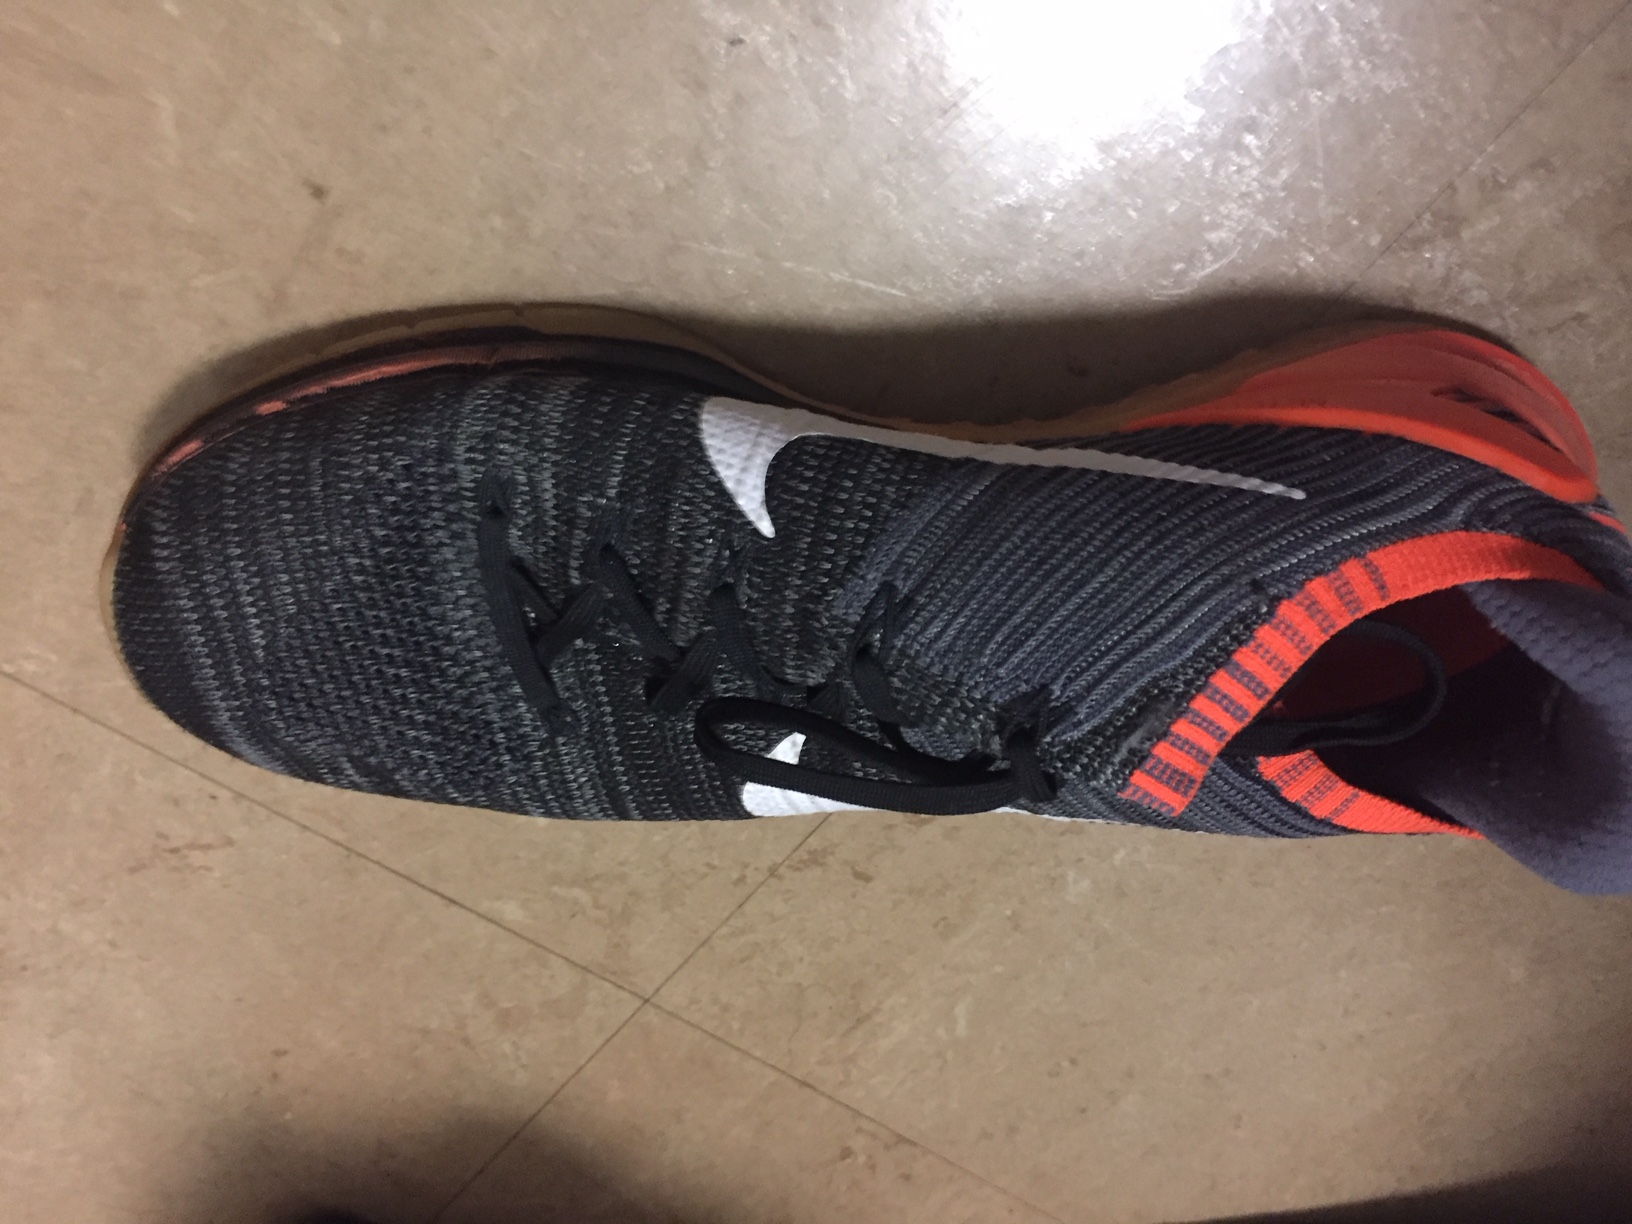car: (87, 302, 1632, 931)
